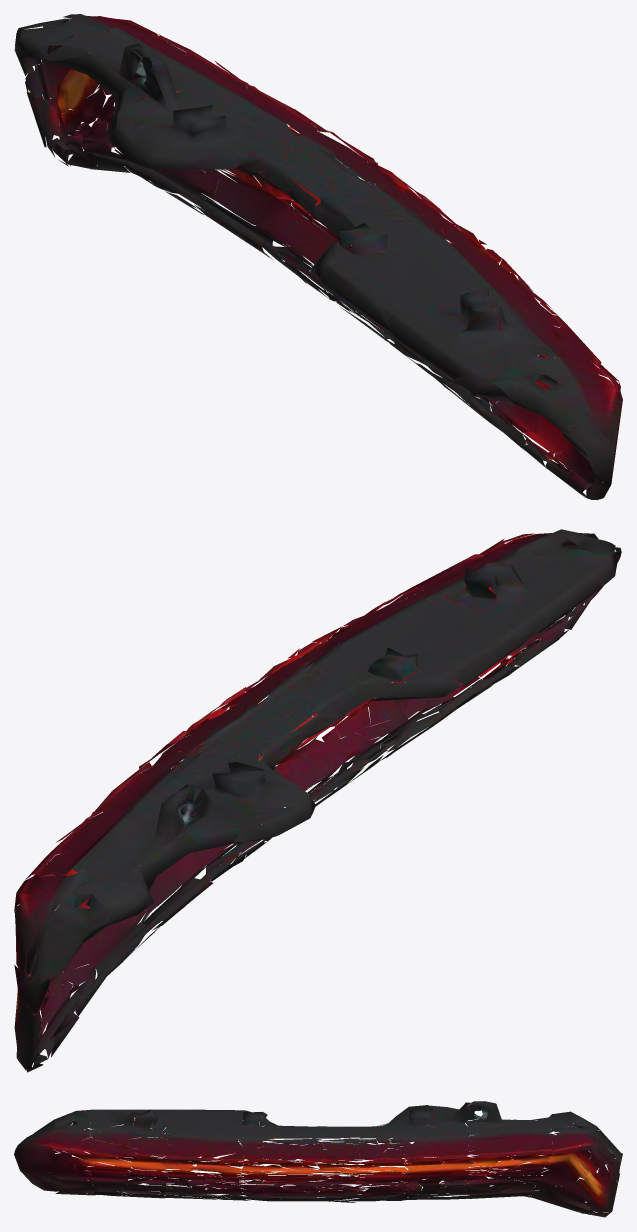
The model's file is common_taillight.glb.
3 views of the same model, one above another, from view 1: azimuth 30°, elevation 25°; view 2: azimuth 150°, elevation 25°; view 3: azimuth 270°, elevation 25° (orthographic). The views are drawn at different scales.
Visible parts, largest first — view 1: tripo_node_12c8bee4-4a09-4736-aca4-09691fb6094f; view 2: tripo_node_12c8bee4-4a09-4736-aca4-09691fb6094f; view 3: tripo_node_12c8bee4-4a09-4736-aca4-09691fb6094f.
Boxes of the visible parts, x1,y1,x2,y2 form: tripo_node_12c8bee4-4a09-4736-aca4-09691fb6094f: [14, 14, 622, 499]; tripo_node_12c8bee4-4a09-4736-aca4-09691fb6094f: [14, 529, 621, 1072]; tripo_node_12c8bee4-4a09-4736-aca4-09691fb6094f: [14, 1101, 622, 1217].
Bounding box in the file's own units: 0.1923 × 0.1927 × 1.
1 material, 1 textured.
